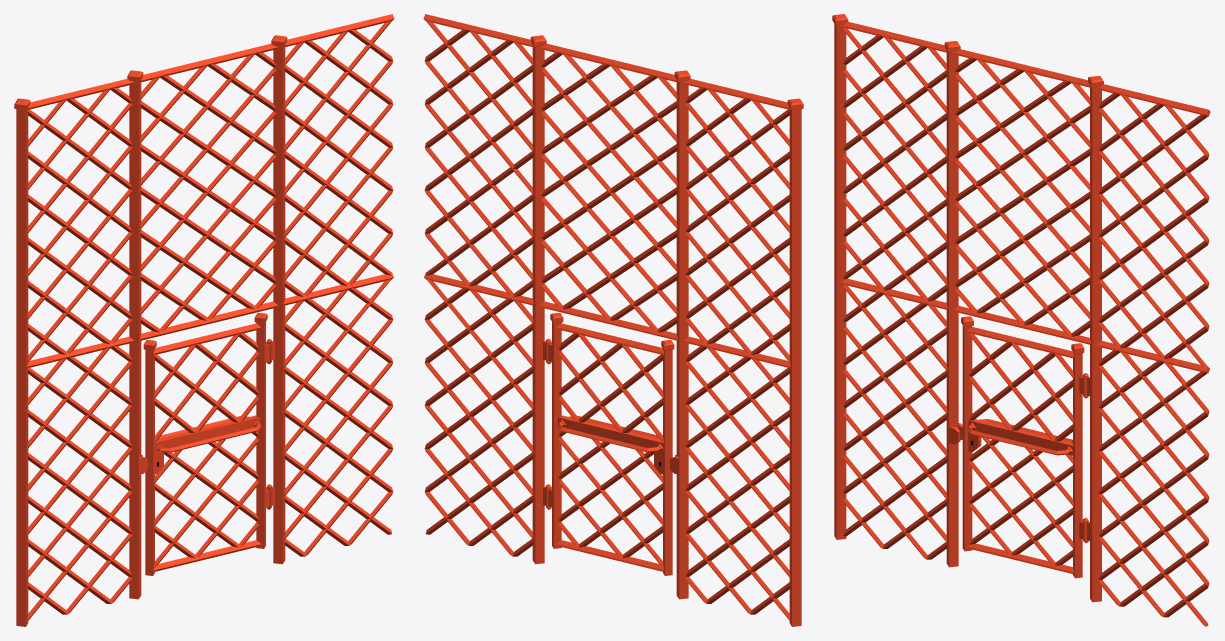
File: SM_Fence_Chainlink_Door_Tall_City.fbx
3 views of the same model, side by side, from view 1: azimuth 30°, elevation 25°; view 2: azimuth 150°, elevation 25°; view 3: azimuth 330°, elevation 25° (orthographic).
Parts seen in each view (by area): view 1: SM_Fence_Chainlink_Door_Tall_City_Base, SM_Fence_Chainlink_Door_Tall_City_Door; view 2: SM_Fence_Chainlink_Door_Tall_City_Base, SM_Fence_Chainlink_Door_Tall_City_Door; view 3: SM_Fence_Chainlink_Door_Tall_City_Base, SM_Fence_Chainlink_Door_Tall_City_Door.
Part boxes in pixels (<box>): SM_Fence_Chainlink_Door_Tall_City_Base: <box>14,14,394,626</box>; SM_Fence_Chainlink_Door_Tall_City_Door: <box>143,312,271,575</box>; SM_Fence_Chainlink_Door_Tall_City_Base: <box>423,14,803,626</box>; SM_Fence_Chainlink_Door_Tall_City_Door: <box>546,312,674,575</box>; SM_Fence_Chainlink_Door_Tall_City_Base: <box>832,14,1210,626</box>; SM_Fence_Chainlink_Door_Tall_City_Door: <box>961,316,1088,578</box>.
Size of the model in its own units: 3.06 by 4.06 by 0.2534.
